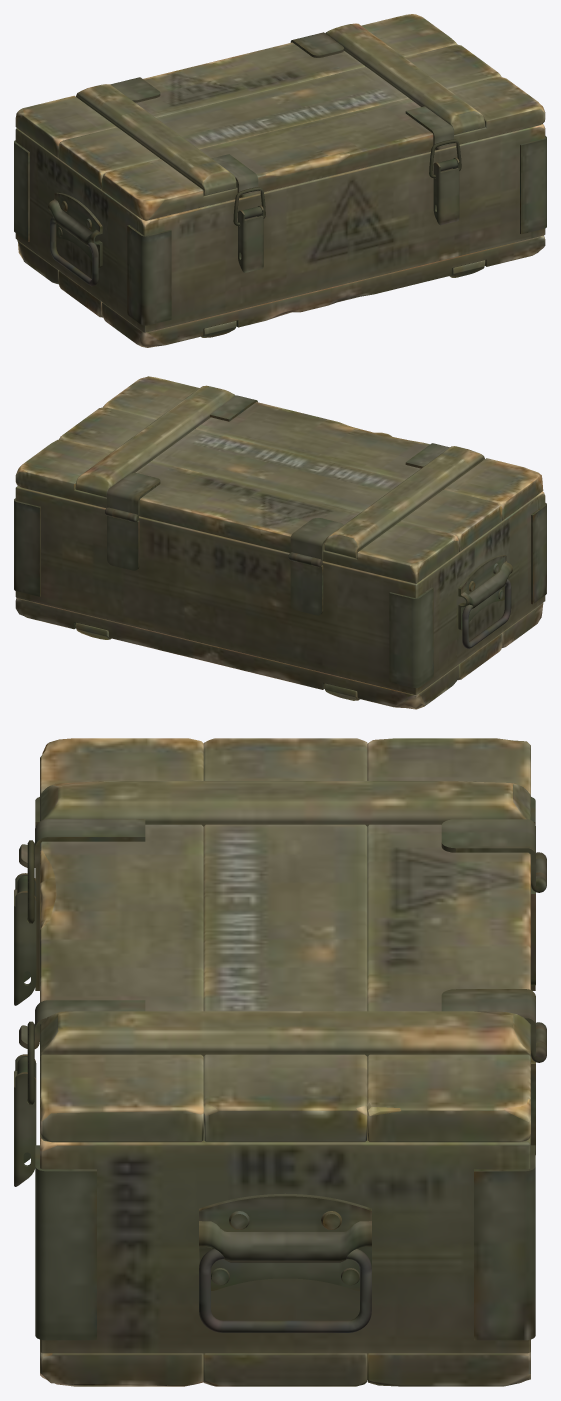
File: crate.glb
The picture shows the model from 3 angles, top to bottom: view 1: azimuth 30°, elevation 25°; view 2: azimuth 150°, elevation 25°; view 3: azimuth 270°, elevation 25°; orthographic projection. The views are drawn at different scales.
Visible parts, largest first — view 1: old_military_crate_a.001, old_military_crate_lid_a.001, old_military_crate_latch_a.001, old_military_crate_loop_a.001; view 2: old_military_crate_a.001, old_military_crate_lid_a.001; view 3: old_military_crate_lid_a.001, old_military_crate_a.001, old_military_crate_latch_a.001, old_military_crate_loop_a.001.
Part boxes in pixels (left/top/right/bottom): old_military_crate_a.001: left=14, top=124, right=546, bottom=347; old_military_crate_lid_a.001: left=15, top=14, right=545, bottom=220; old_military_crate_latch_a.001: left=238, top=157, right=459, bottom=272; old_military_crate_loop_a.001: left=233, top=139, right=461, bottom=225; old_military_crate_a.001: left=14, top=486, right=546, bottom=709; old_military_crate_lid_a.001: left=15, top=376, right=543, bottom=583; old_military_crate_lid_a.001: left=19, top=738, right=546, bottom=1142; old_military_crate_a.001: left=35, top=797, right=546, bottom=1386; old_military_crate_latch_a.001: left=14, top=873, right=36, bottom=1186; old_military_crate_loop_a.001: left=27, top=840, right=34, bottom=1104.
Bounding box in the file's own units: 0.8047 × 0.3009 × 0.4667.
Materials: 1 (1 with a texture image).
